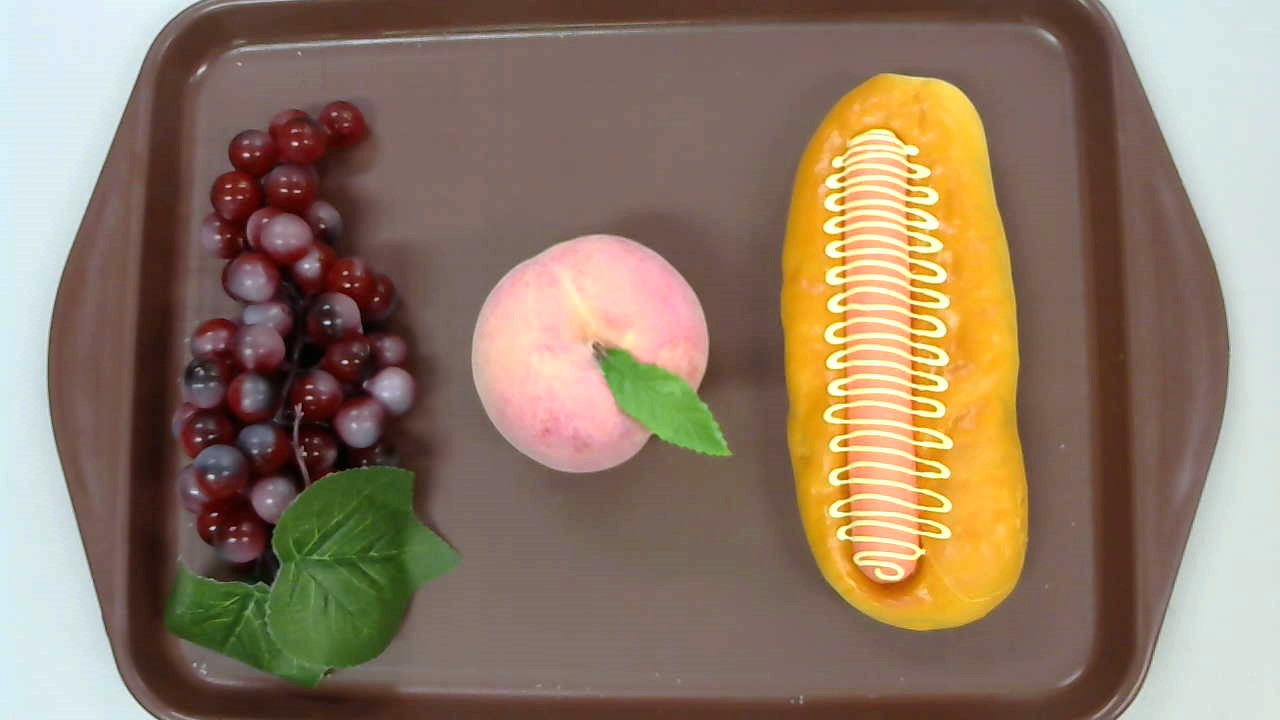grape: (162, 99, 463, 691)
hot dog: (779, 71, 1029, 631)
peach: (470, 234, 735, 472)
